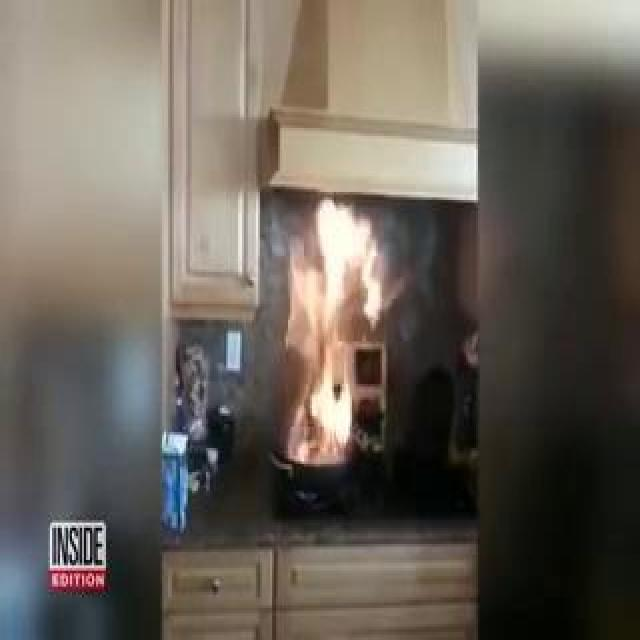Fire: (267, 248, 361, 469)
